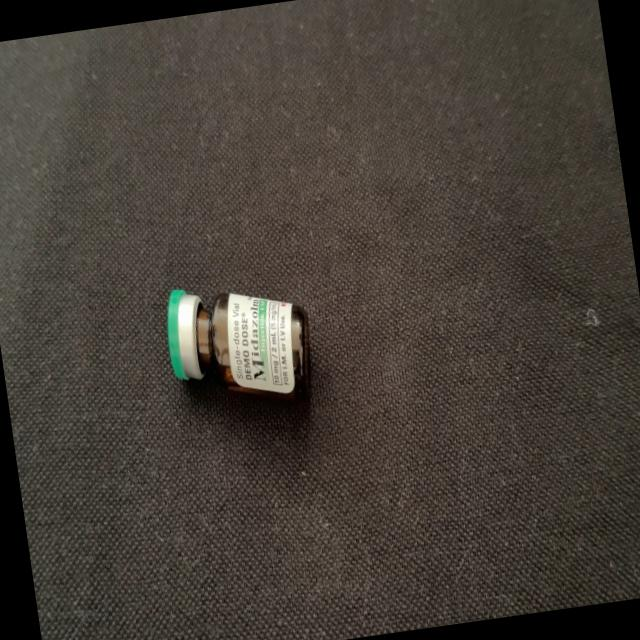midazolm: (164, 273, 316, 418)
